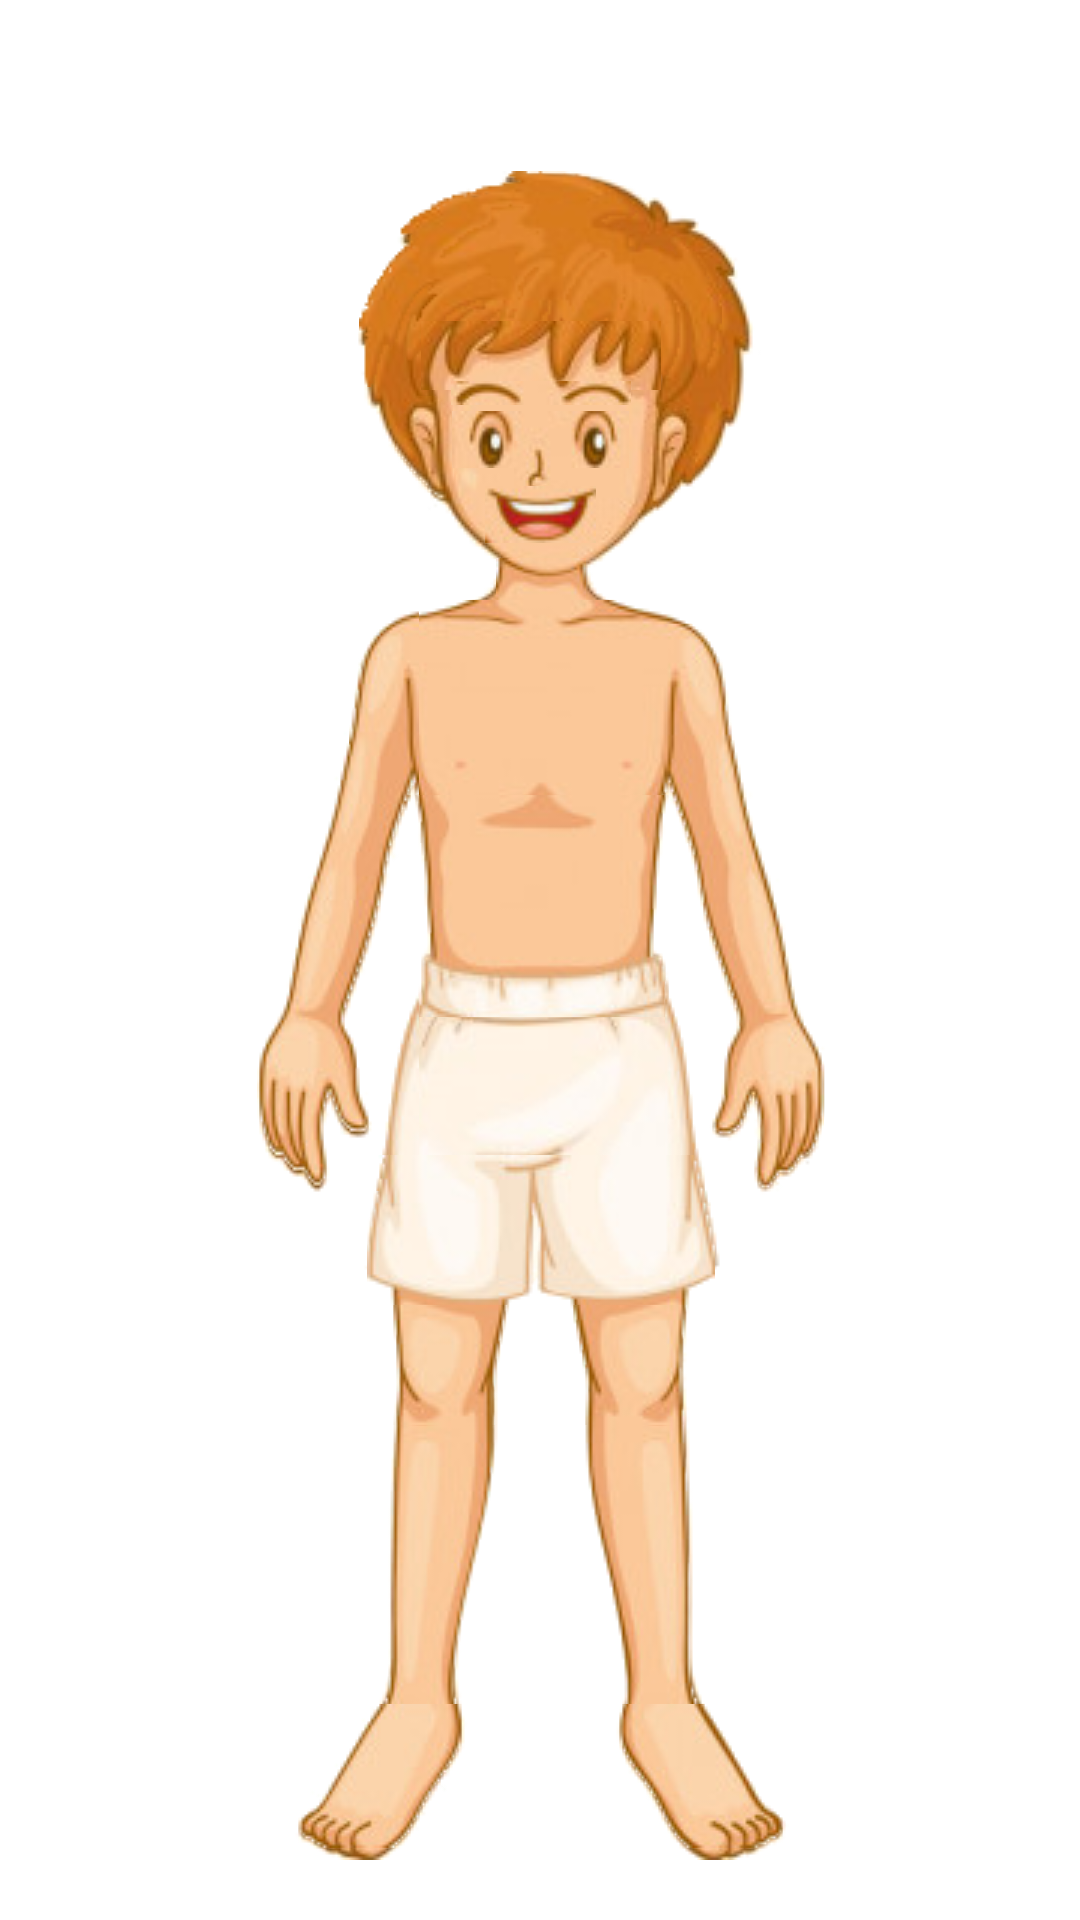

Icons on this 1080 × 1920 Android screen, each with the point to tap as point (x, y):
eye: point (543, 439)
mouth: point (542, 515)
neck: point (541, 589)
stomach: point (537, 906)
